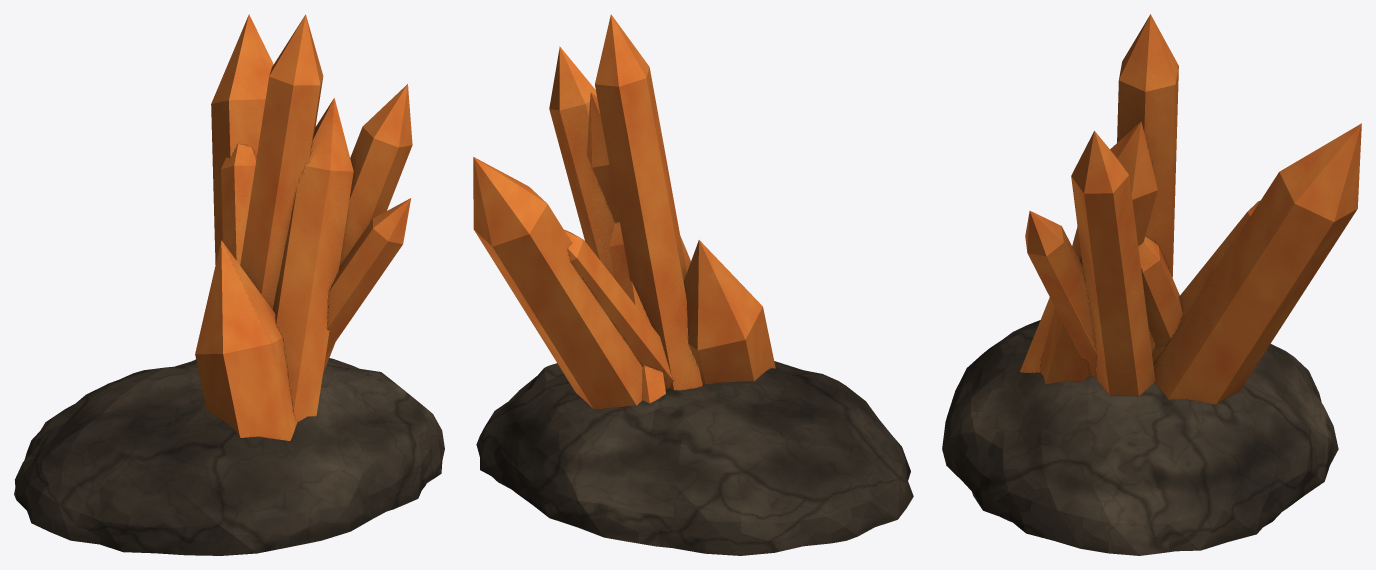
File: mine_originium_b.glb
3 views of the same model, side by side, from view 1: azimuth 30°, elevation 25°; view 2: azimuth 150°, elevation 25°; view 3: azimuth 270°, elevation 25° (orthographic). The views are drawn at different scales.
Parts seen in each view (by area): view 1: mine_originium_b; view 2: mine_originium_b; view 3: mine_originium_b.
Boxes of the visible parts, left/top/right/bottom form: mine_originium_b: left=14, top=14, right=444, bottom=555; mine_originium_b: left=473, top=14, right=913, bottom=555; mine_originium_b: left=942, top=14, right=1361, bottom=555.
Bounding box in the file's own units: 1.49 × 1.55 × 1.23.
2 materials, 2 textured.
